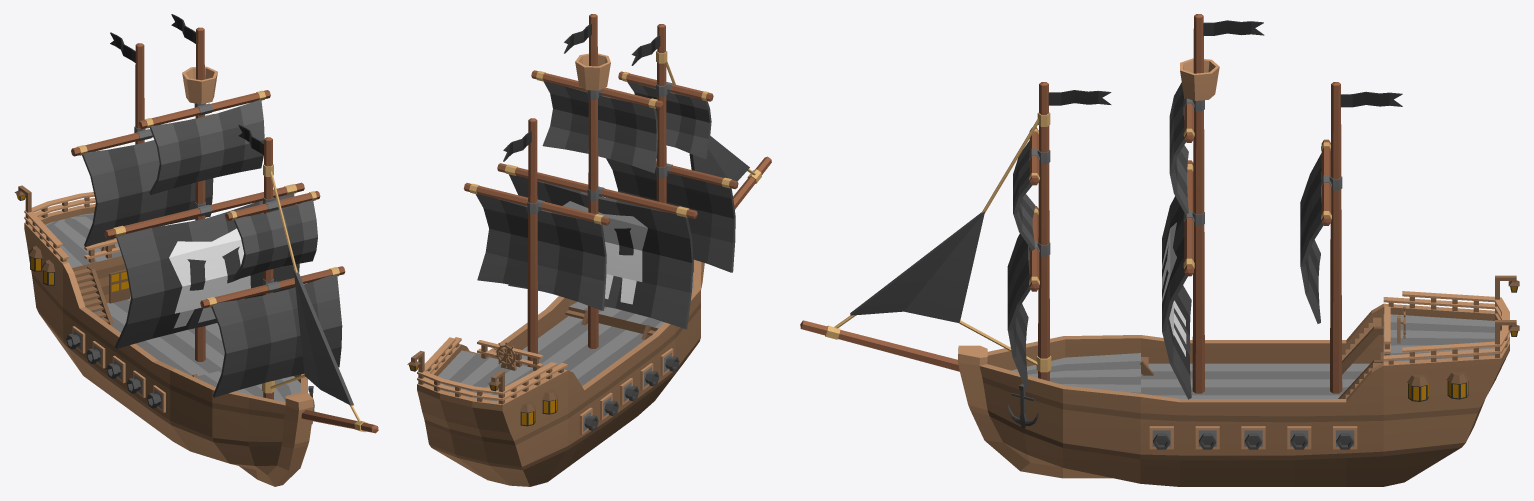
The model's file is manowar.glb.
The picture shows the model from 3 angles, left to right: view 1: azimuth 30°, elevation 25°; view 2: azimuth 150°, elevation 25°; view 3: azimuth 270°, elevation 25°; orthographic projection. The views are drawn at different scales.
Visible parts, largest first — view 1: pirate ship large 2; view 2: pirate ship large 2; view 3: pirate ship large 2.
Part boxes in pixels (<box>): pirate ship large 2: <box>14,14,378,486</box>; pirate ship large 2: <box>407,14,771,486</box>; pirate ship large 2: <box>800,14,1519,486</box>.
Bounding box in the file's own units: 15.89 × 31.22 × 43.98.
1 material, 1 textured.
